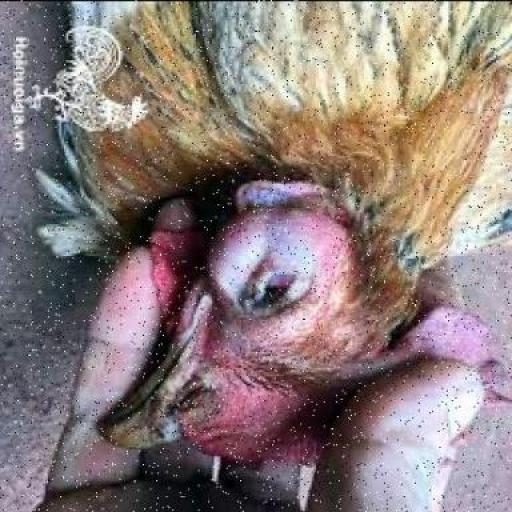disease: (177, 184, 387, 347)
